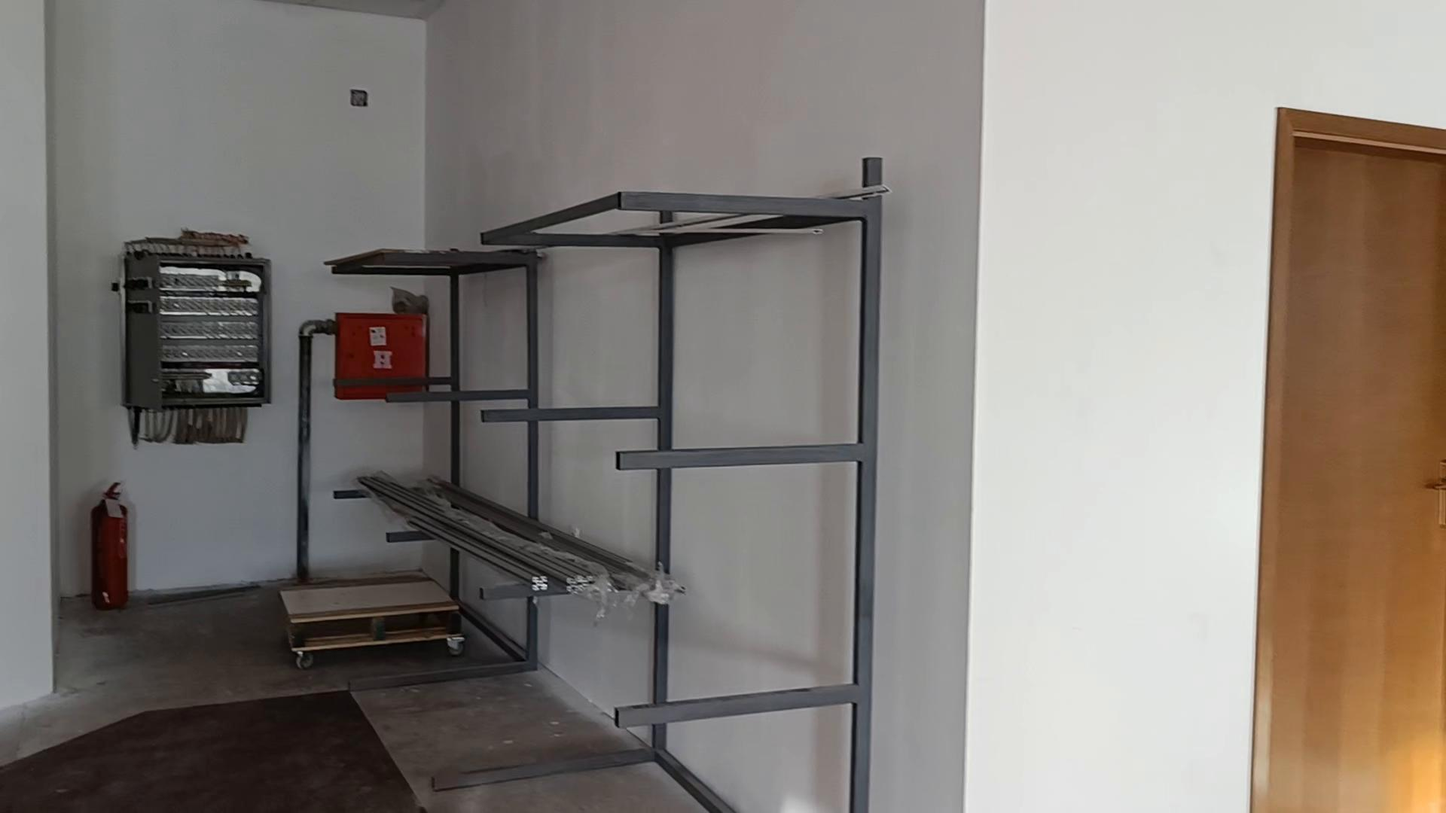ceiling: (267, 0, 444, 20)
floor: (8, 581, 679, 812)
wall: (3, 0, 1445, 812), (134, 325, 297, 581), (665, 233, 852, 443), (674, 474, 847, 694), (667, 711, 844, 808), (545, 255, 648, 400), (546, 592, 651, 709), (325, 404, 431, 474), (466, 277, 530, 391)
